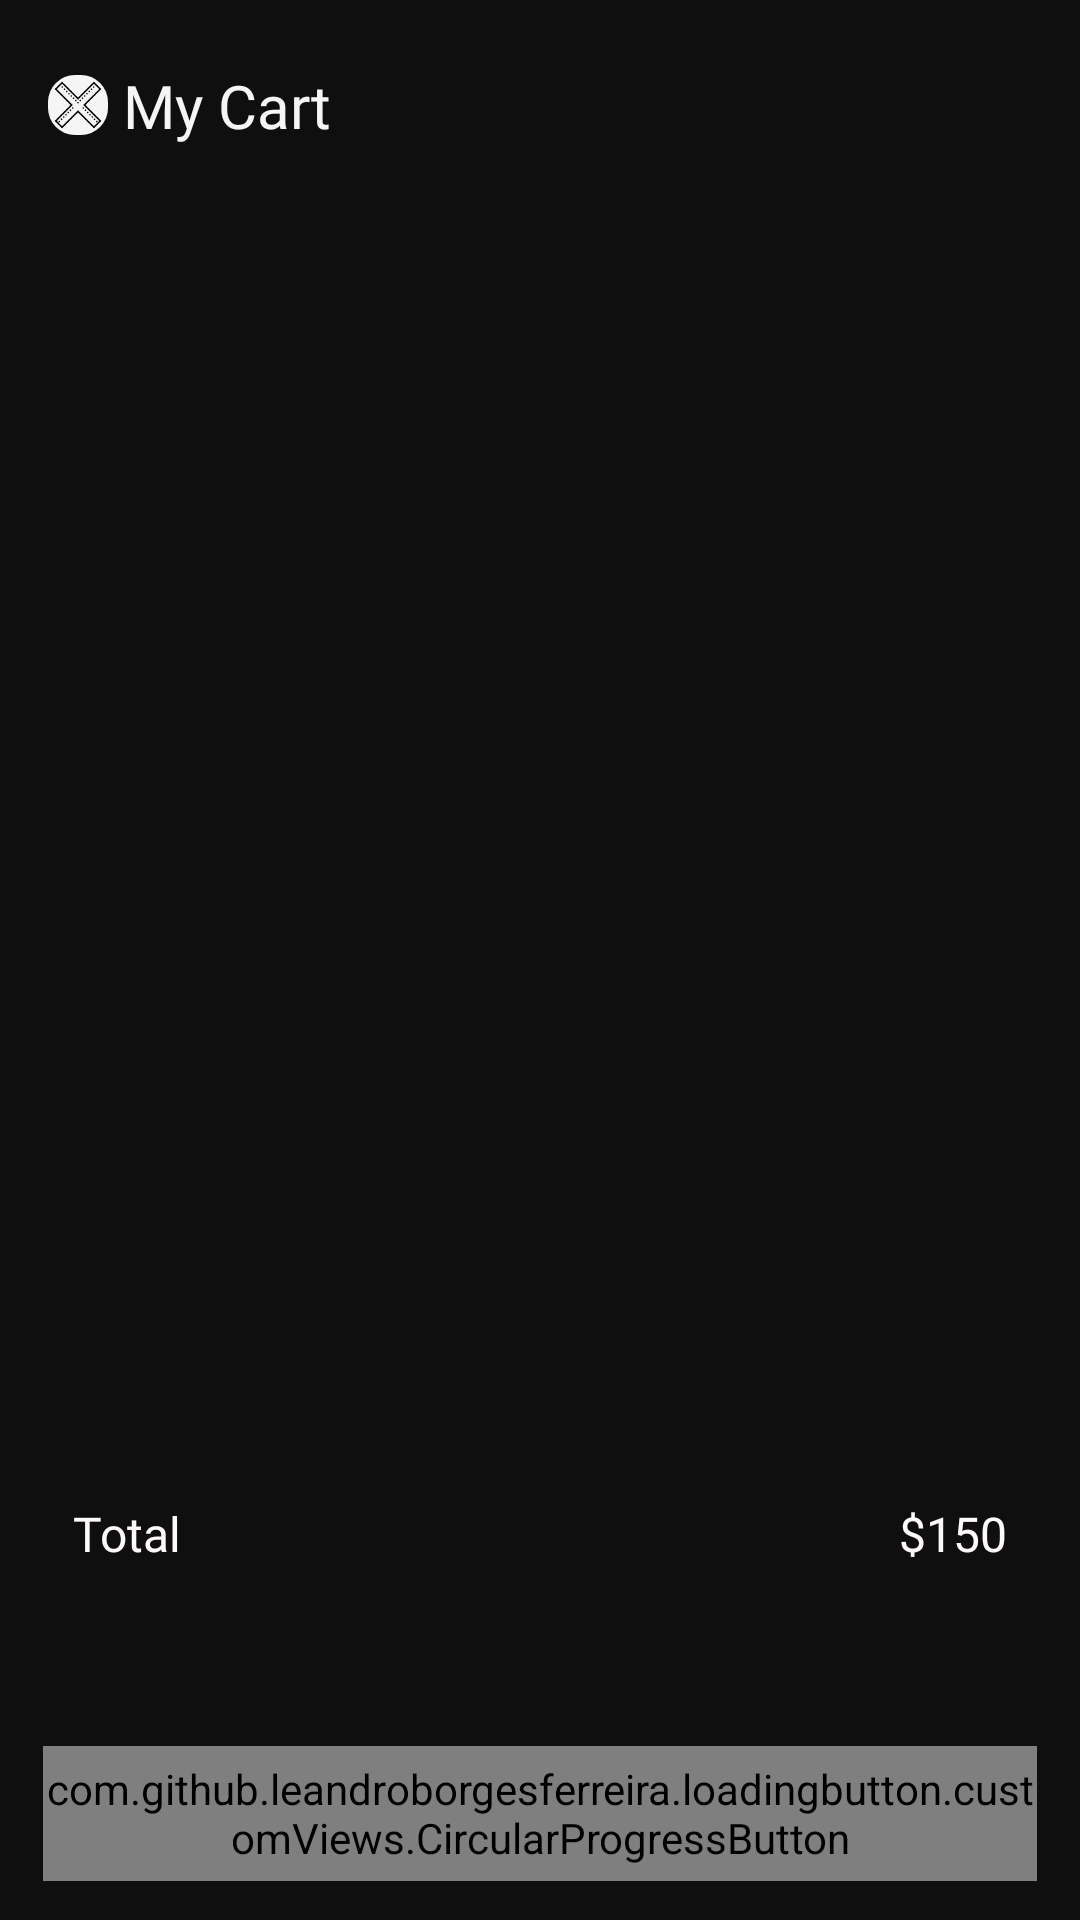

Screen size 1080 × 1920. Icon name, then its box in pixels as (x1, y1, x2, y2):
close: (48, 75, 108, 135)
